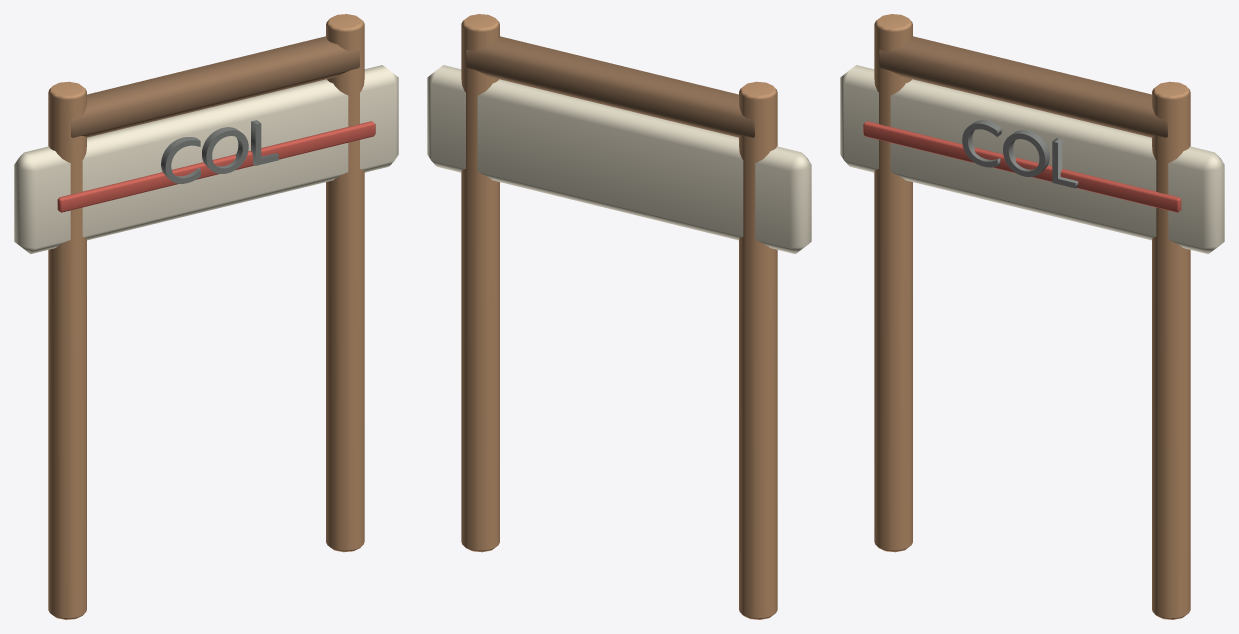
File: MYB96_ColDirectionSign.fbx
The picture shows the model from 3 angles, left to right: view 1: azimuth 30°, elevation 25°; view 2: azimuth 150°, elevation 25°; view 3: azimuth 330°, elevation 25°; orthographic projection.
Parts seen in each view (by area): view 1: main_plank, post_left, post_right, top_cap, red_route_stripe, engraved_text_Mesh; view 2: main_plank, post_left, post_right, top_cap; view 3: main_plank, post_right, post_left, top_cap, red_route_stripe, engraved_text_Mesh.
Boxes of the visible parts, left/top/right/bottom form: main_plank: left=14, top=65, right=398, bottom=253; post_left: left=48, top=81, right=86, bottom=619; post_right: left=326, top=14, right=364, bottom=552; top_cap: left=71, top=36, right=359, bottom=137; red_route_stripe: left=57, top=121, right=375, bottom=212; engraved_text_Mesh: left=161, top=120, right=278, bottom=183; main_plank: left=427, top=65, right=811, bottom=253; post_left: left=739, top=81, right=777, bottom=619; post_right: left=461, top=14, right=499, bottom=552; top_cap: left=466, top=36, right=754, bottom=137; main_plank: left=840, top=65, right=1224, bottom=253; post_right: left=1152, top=81, right=1190, bottom=619; post_left: left=874, top=14, right=912, bottom=552; top_cap: left=879, top=36, right=1167, bottom=137; red_route_stripe: left=863, top=121, right=1181, bottom=212; engraved_text_Mesh: left=962, top=120, right=1078, bottom=188.
Size of the model in its own units: 98 by 130 by 11.1.
